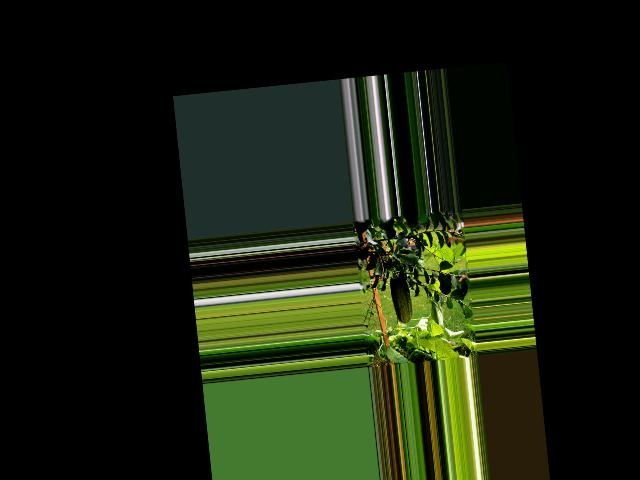cucumber: (387, 270, 413, 324)
